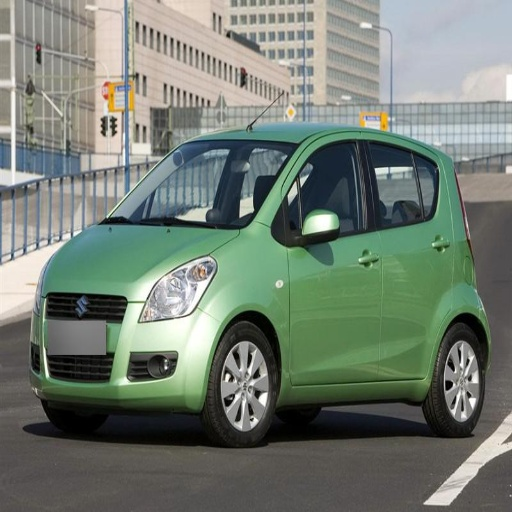front_bumper: (29, 289, 220, 407)
front_glass: (103, 140, 296, 226)
front_left_door: (283, 136, 381, 383)
